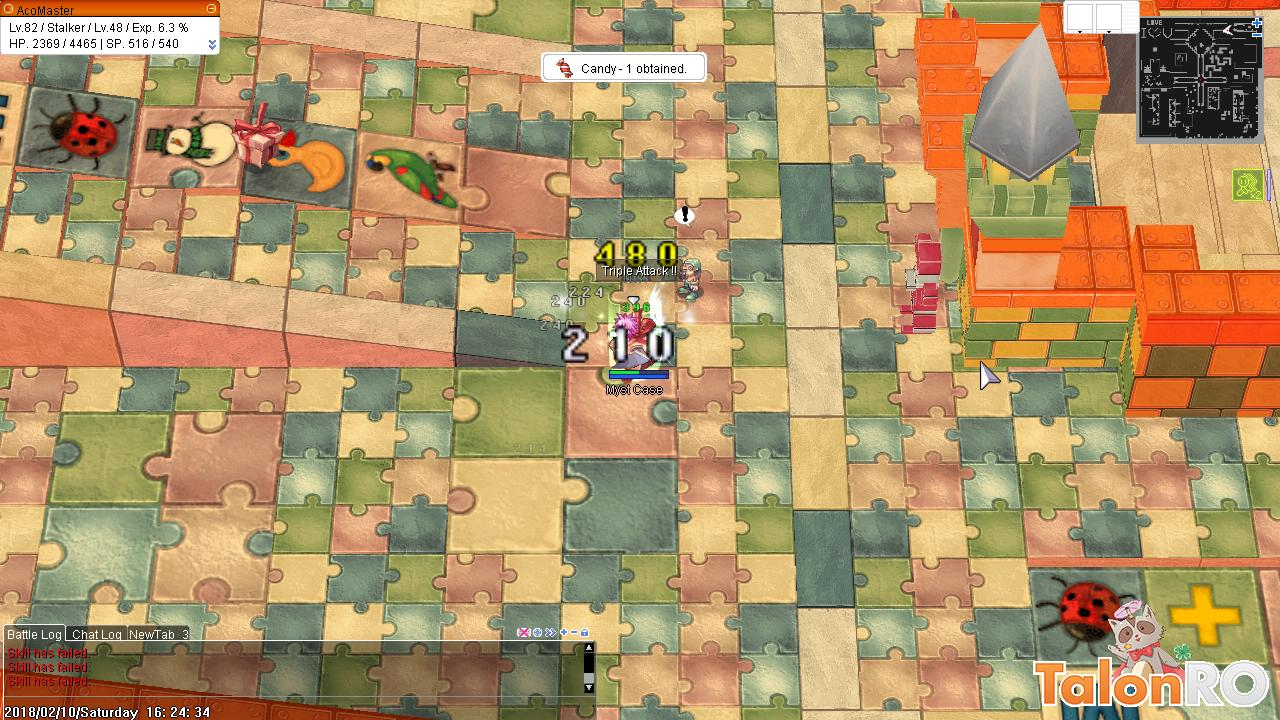myst_case: (228, 100, 282, 172)
